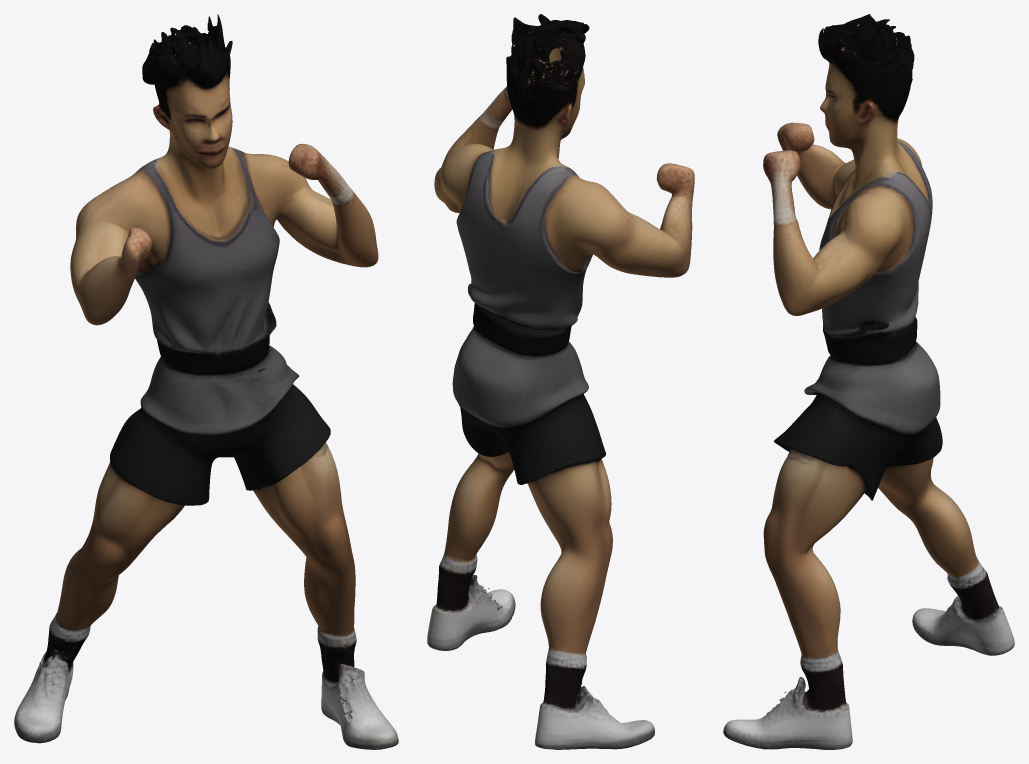
The model's file is trellis2-concept2-high.tex-esrgan2x.glb.
3 renders of one model, left to right at view 1: azimuth 30°, elevation 25°; view 2: azimuth 150°, elevation 25°; view 3: azimuth 270°, elevation 25°, orthographic. The views are drawn at different scales.
Parts seen in each view (by area): view 1: world; view 2: world; view 3: world.
Part boxes in pixels (x1,y1,x2,y2): world: (14,14,398,749); world: (427,14,694,749); world: (723,14,1014,749).
Bounding box in the file's own units: 0.4224 × 0.999 × 0.3933.
1 material, 1 textured.
